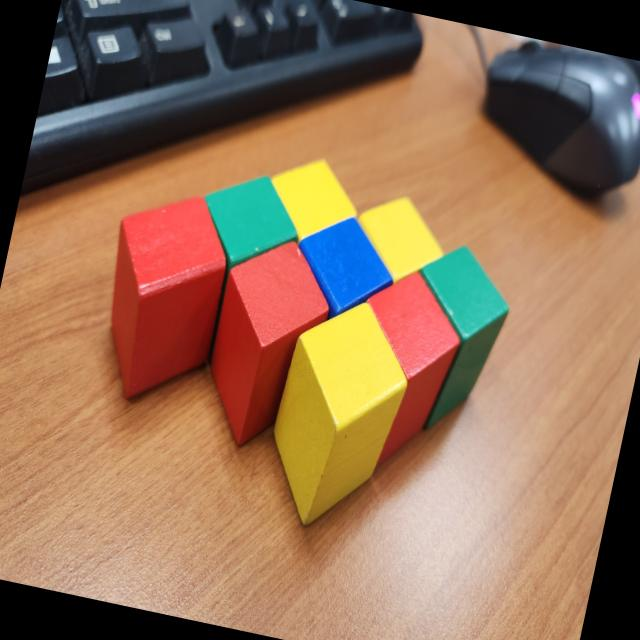blue: (282, 207, 404, 341)
green: (169, 160, 309, 374), (384, 234, 520, 446)
red: (82, 178, 240, 410), (192, 226, 341, 461), (331, 258, 474, 482)
yellow: (252, 287, 422, 542), (255, 128, 371, 262), (344, 185, 455, 292)
